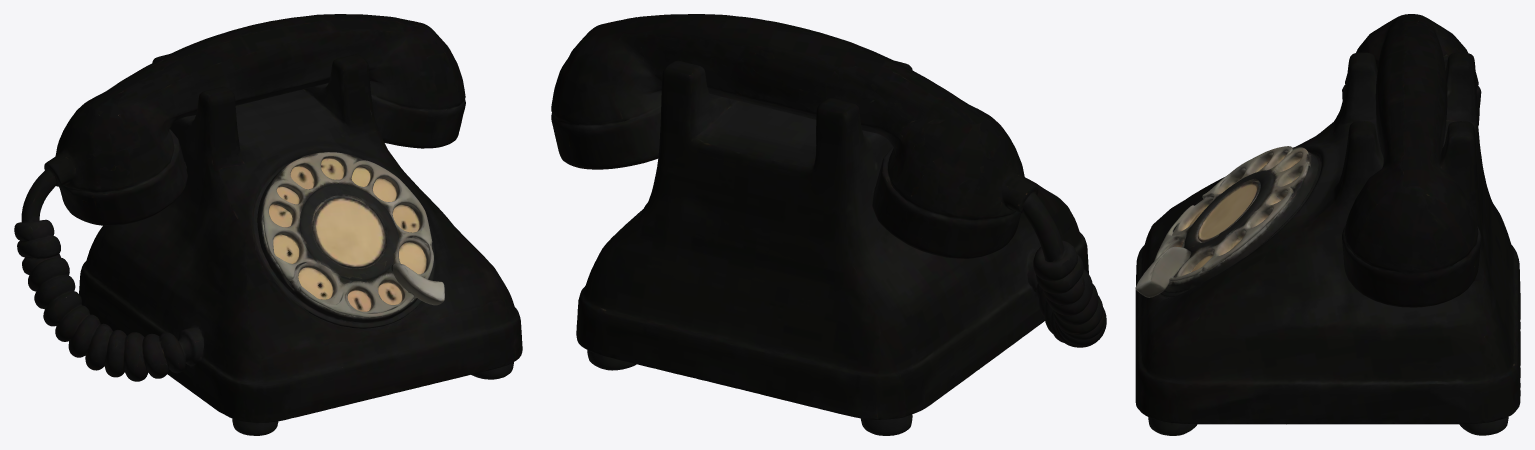
The model's file is phhone.glb.
3 renders of one model, left to right at view 1: azimuth 30°, elevation 25°; view 2: azimuth 150°, elevation 25°; view 3: azimuth 270°, elevation 25°, orthographic. The views are drawn at different scales.
Size of the model in its own units: 1 by 0.6296 by 0.7144.
Materials: 1 (1 with a texture image).
